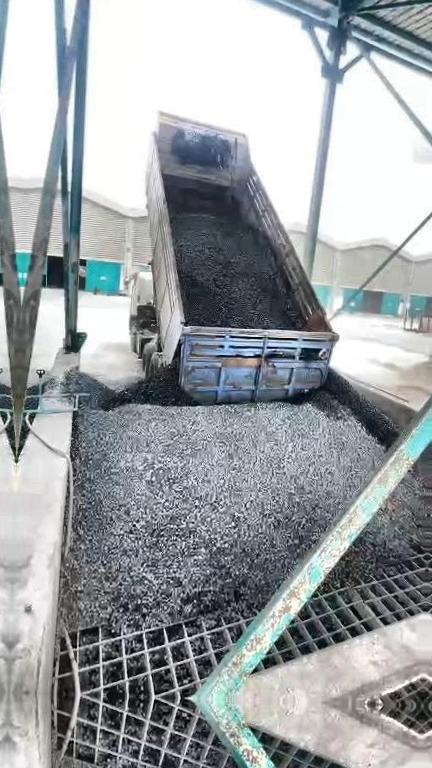gravel: (62, 356, 406, 616), (171, 198, 299, 322), (332, 442, 431, 572)
sand: (361, 354, 432, 402)
